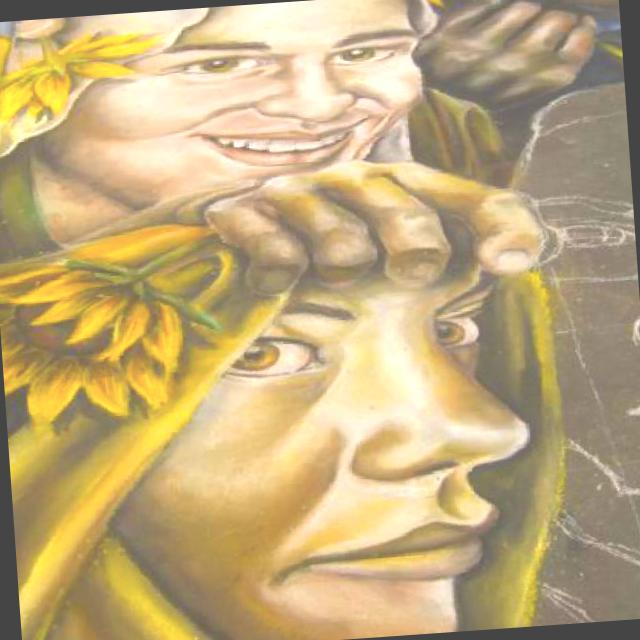Person: (0, 198, 573, 640), (0, 0, 499, 267)
